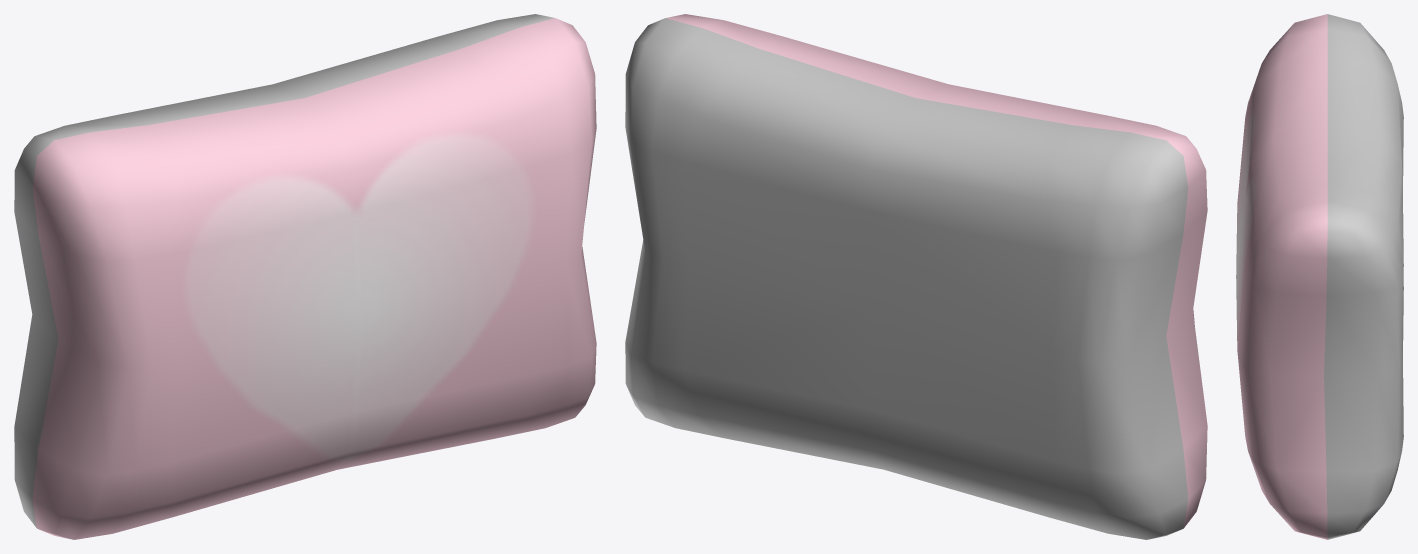
The model's file is SM_Props_Pillow_03.fbx.
3 renders of one model, left to right at view 1: azimuth 30°, elevation 25°; view 2: azimuth 150°, elevation 25°; view 3: azimuth 270°, elevation 25°, orthographic. The views are drawn at different scales.
Parts seen in each view (by area): view 1: SM_Props_Pillow_03; view 2: SM_Props_Pillow_03; view 3: SM_Props_Pillow_03.
Part boxes in pixels (x1=…): SM_Props_Pillow_03: x1=14, y1=14, x2=596, y2=539; SM_Props_Pillow_03: x1=625, y1=14, x2=1207, y2=539; SM_Props_Pillow_03: x1=1236, y1=14, x2=1403, y2=539.
Bounding box in the file's own units: 0.8152 × 0.5656 × 0.2645.
